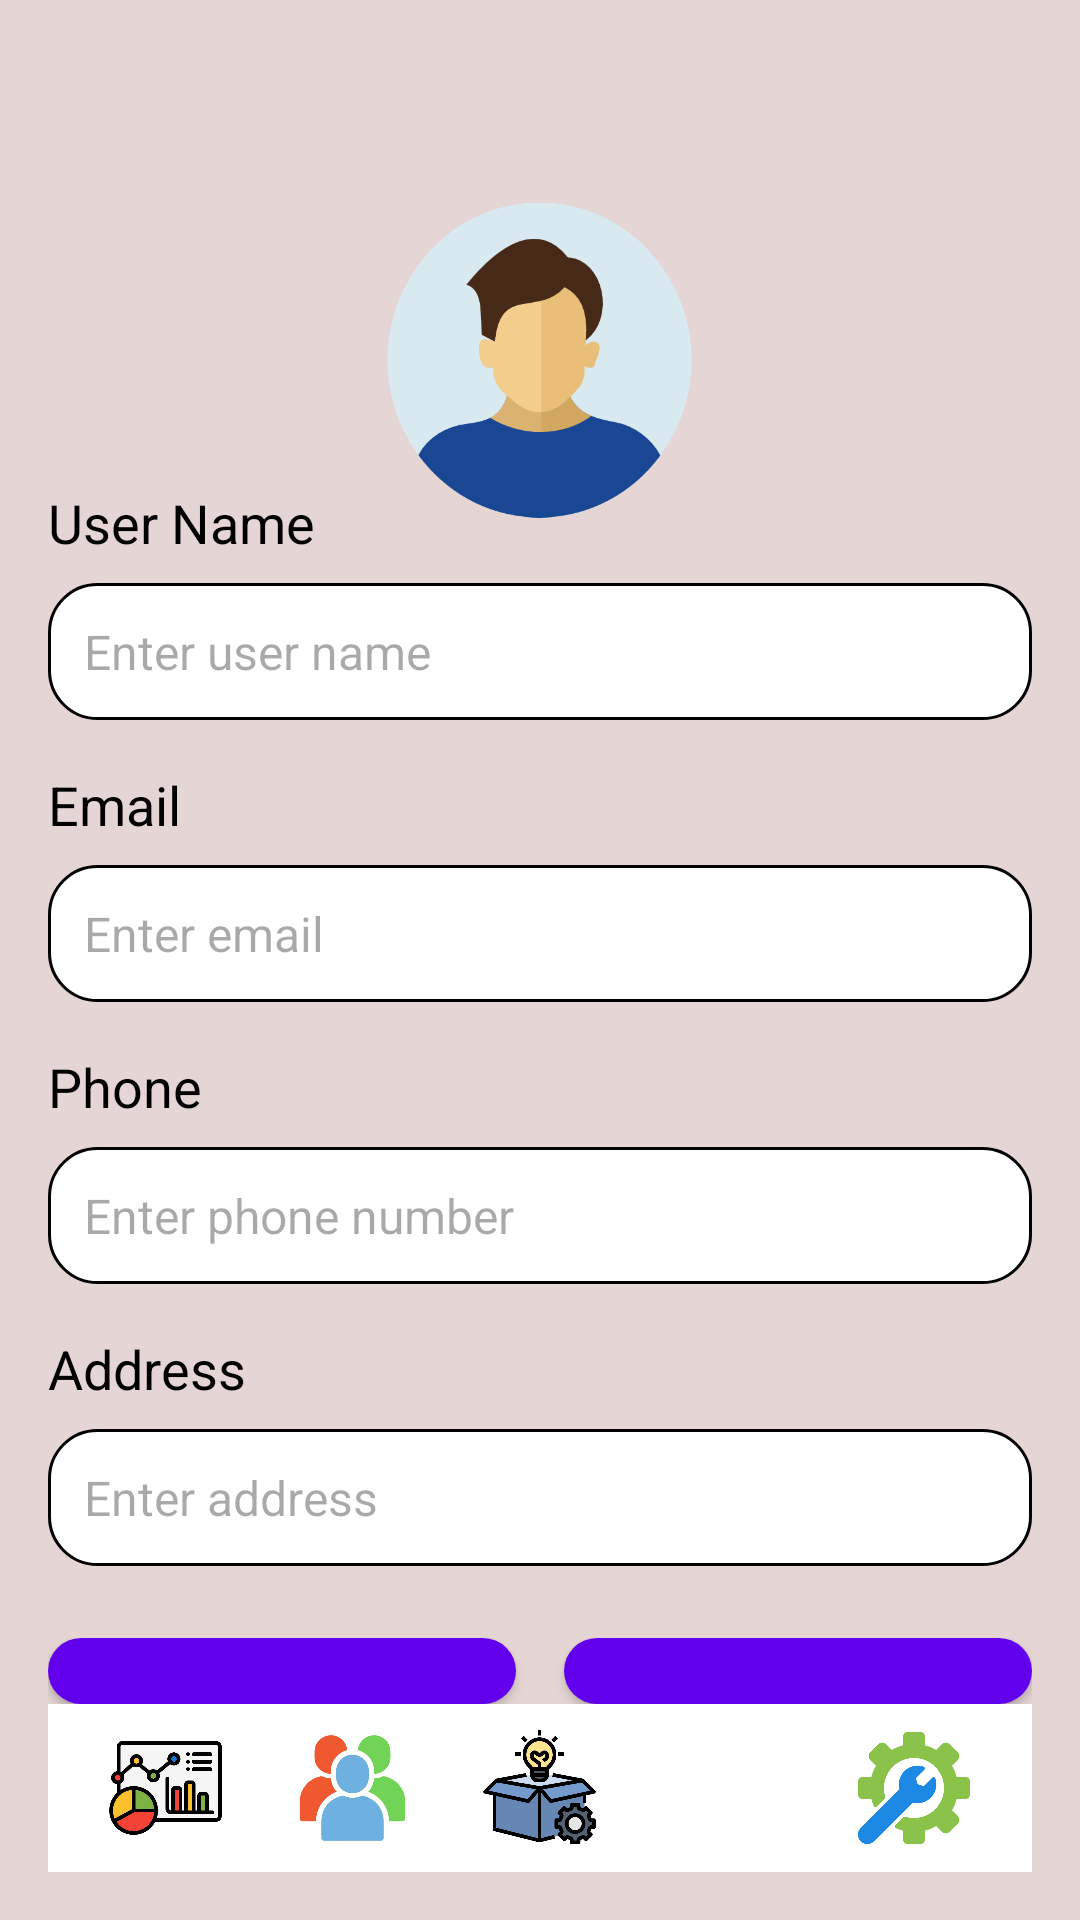

Screen size 1080 × 1920. Icon name, then its box in pixels as (x1, y1, x2, y2):
dashboard: (109, 1741, 222, 1835)
product: (483, 1730, 596, 1844)
setting: (858, 1732, 970, 1844)
users: (300, 1735, 405, 1841)
